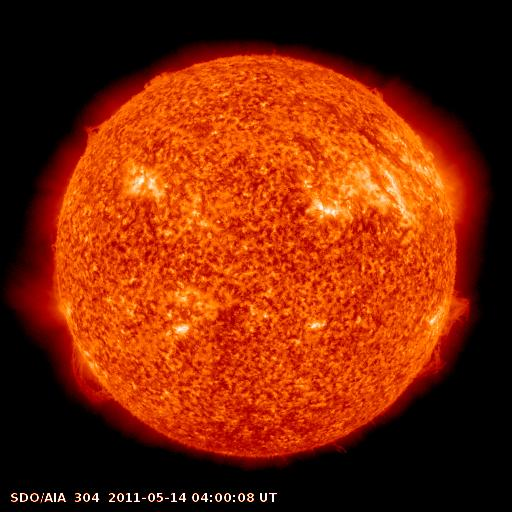prominence: (403, 287, 485, 387), (63, 338, 121, 411), (71, 110, 117, 153), (136, 63, 180, 92), (361, 75, 394, 106)
